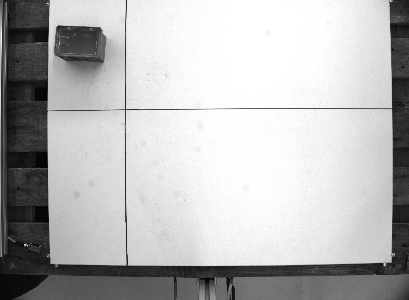kltxs: (51, 21, 108, 65)
